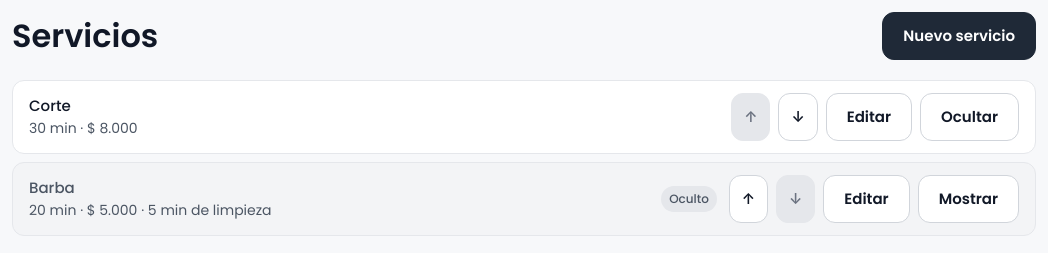
it: Servicios del local › HU-24: las flechas cambian el orden
Click the button named "Bajar Corte" at (798, 117), box 778,93 -> 818,141
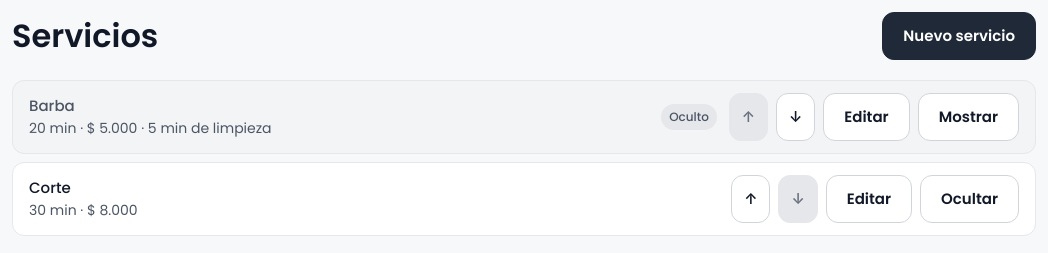
Check: the list item that starts with "Barba" is shown, box 29,95 -> 75,116
Check: the button named "Bajar Corte" is disabled, box 778,175 -> 818,223
